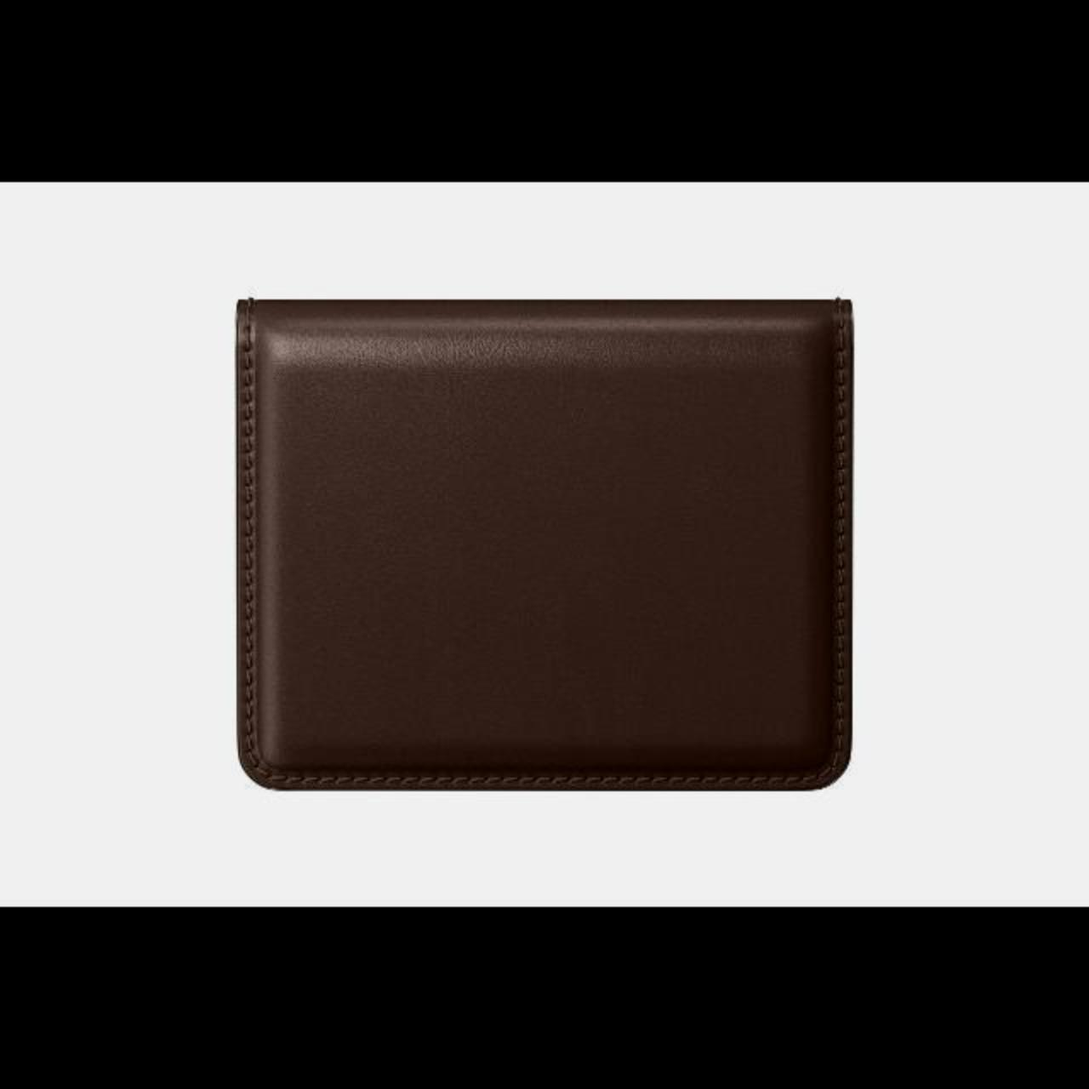wallet: (201, 263, 900, 814)
